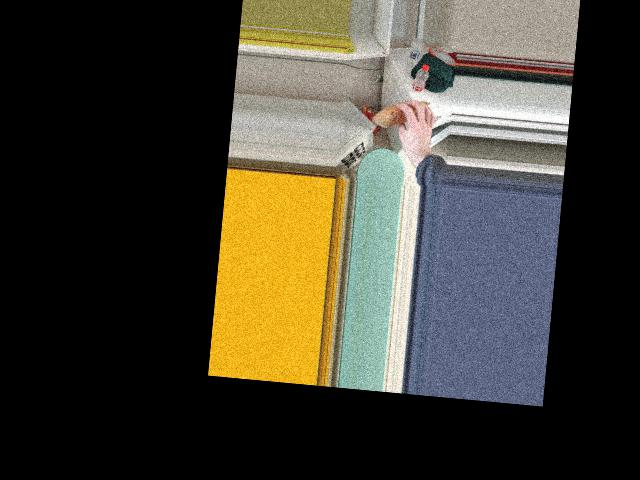sweet_potato: (377, 97, 432, 127)
